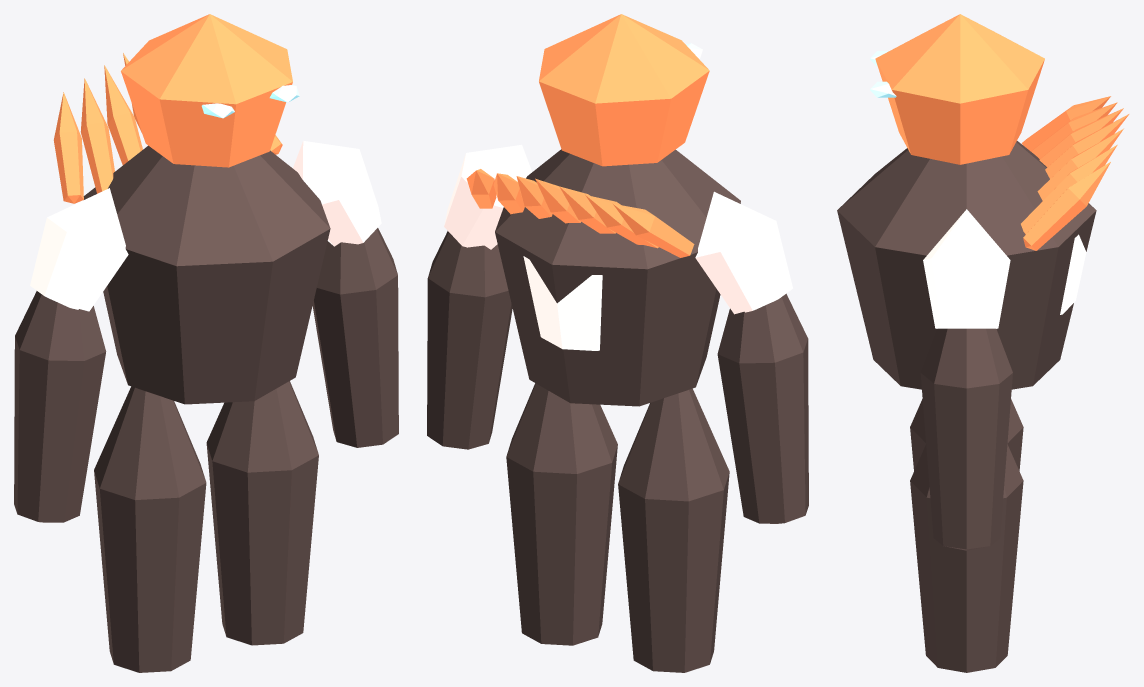
Rendered from deep-fracture-crystal-golem-visual-fire.glb.
3 renders of one model, left to right at view 1: azimuth 30°, elevation 25°; view 2: azimuth 150°, elevation 25°; view 3: azimuth 270°, elevation 25°, orthographic. The views are drawn at different scales.
Visible parts, largest first — view 1: crystal-torso, leg-left, leg-right, crystal-crown, arm-left, arm-right, armor-core-left, armor-core-right, dorsal-spire-0, dorsal-spire-1, dorsal-spire-2; view 2: crystal-torso, leg-left, leg-right, crystal-crown, arm-left, arm-right, armor-core-left, armor-core-right, regeneration-core, dorsal-spire-0, dorsal-spire-1, dorsal-spire-2 (+4 smaller); view 3: crystal-torso, crystal-crown, arm-right, leg-right, armor-core-right, dorsal-spire-6, leg-left, dorsal-spire-5, dorsal-spire-0, dorsal-spire-4, dorsal-spire-3, dorsal-spire-1 (+2 smaller).
Part boxes in pixels (box(x1,y1,x2,y2)): crystal-torso: box(83, 145, 330, 404); leg-left: box(94, 386, 206, 672); leg-right: box(206, 381, 318, 645); crystal-crown: box(121, 14, 292, 167); arm-left: box(14, 291, 106, 522); arm-right: box(312, 228, 398, 447); armor-core-left: box(30, 188, 128, 311); armor-core-right: box(293, 141, 381, 246); dorsal-spire-0: box(53, 92, 83, 203); dorsal-spire-1: box(80, 78, 114, 193); dorsal-spire-2: box(104, 65, 142, 165); crystal-torso: box(495, 149, 740, 406); leg-left: box(618, 388, 729, 672); leg-right: box(506, 383, 617, 645); crystal-crown: box(539, 14, 709, 166); arm-left: box(717, 293, 808, 523); arm-right: box(427, 231, 512, 449); armor-core-left: box(695, 191, 792, 314); armor-core-right: box(444, 144, 531, 249); regeneration-core: box(523, 256, 602, 350); dorsal-spire-0: box(613, 204, 694, 257); dorsal-spire-1: box(585, 195, 658, 248); dorsal-spire-2: box(559, 186, 615, 233); crystal-torso: box(837, 141, 1096, 389); crystal-crown: box(875, 14, 1044, 164); arm-right: box(920, 328, 1012, 550); leg-right: box(910, 444, 1023, 672); armor-core-right: box(923, 209, 1010, 328); dorsal-spire-6: box(1023, 162, 1110, 250); leg-left: box(910, 399, 1023, 470); dorsal-spire-5: box(1021, 144, 1117, 234); dorsal-spire-0: box(1022, 96, 1110, 151); dorsal-spire-4: box(1037, 128, 1123, 200); dorsal-spire-3: box(1045, 114, 1129, 178); dorsal-spire-1: box(1031, 102, 1117, 158).
Size of the model in its own units: 3.22 by 5.25 by 2.22.
